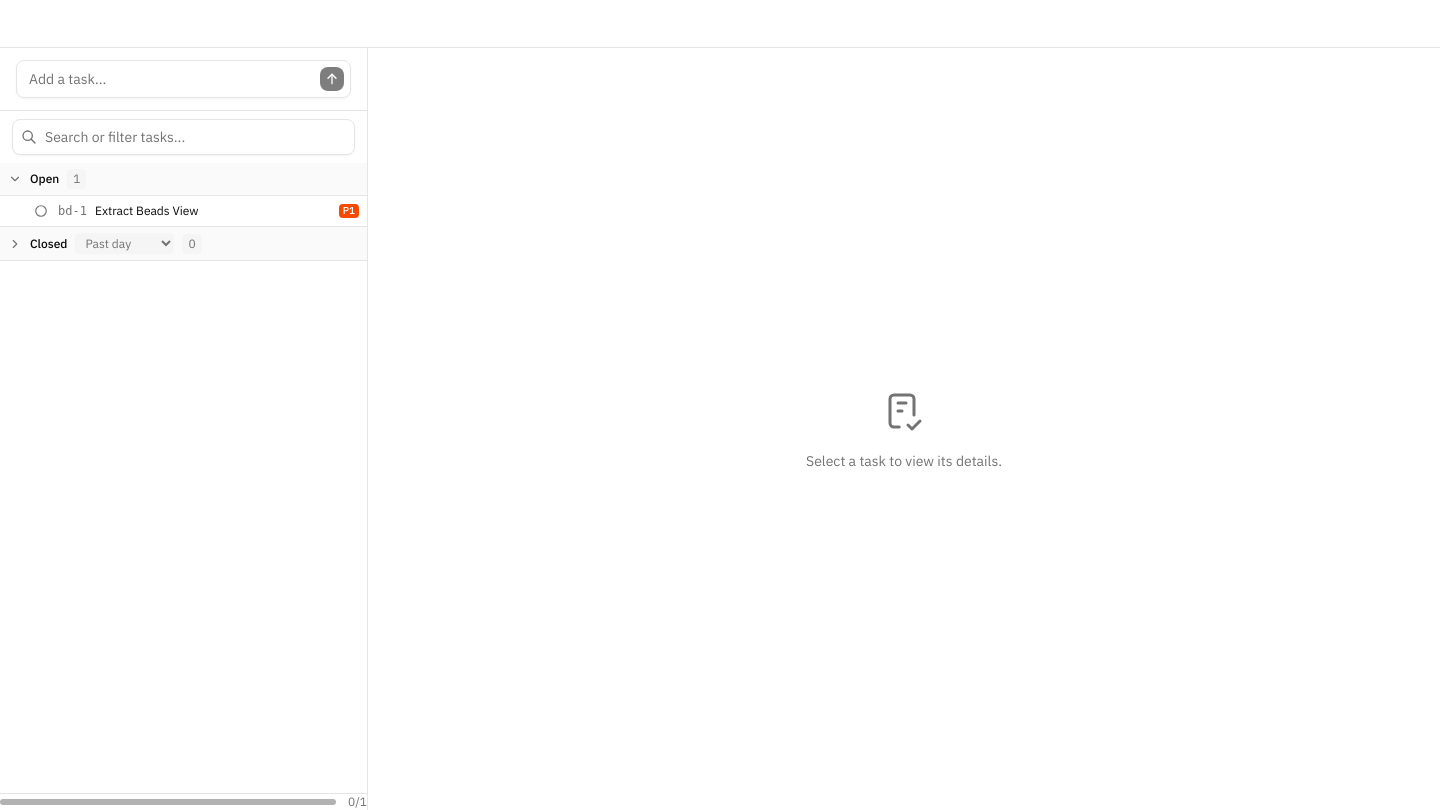
Test case: App › loads tasks and opens editable task details
The image size is (1440, 810).
Check: the text box named "New task title" is shown, box [17,61,320,97]
Check: the progress indicator named "Task completion progress" is shown, box [0,793,367,809]
Click the button "bd-1 Extract Beads View P1". click: (147, 210)
box: [58,203,359,219]
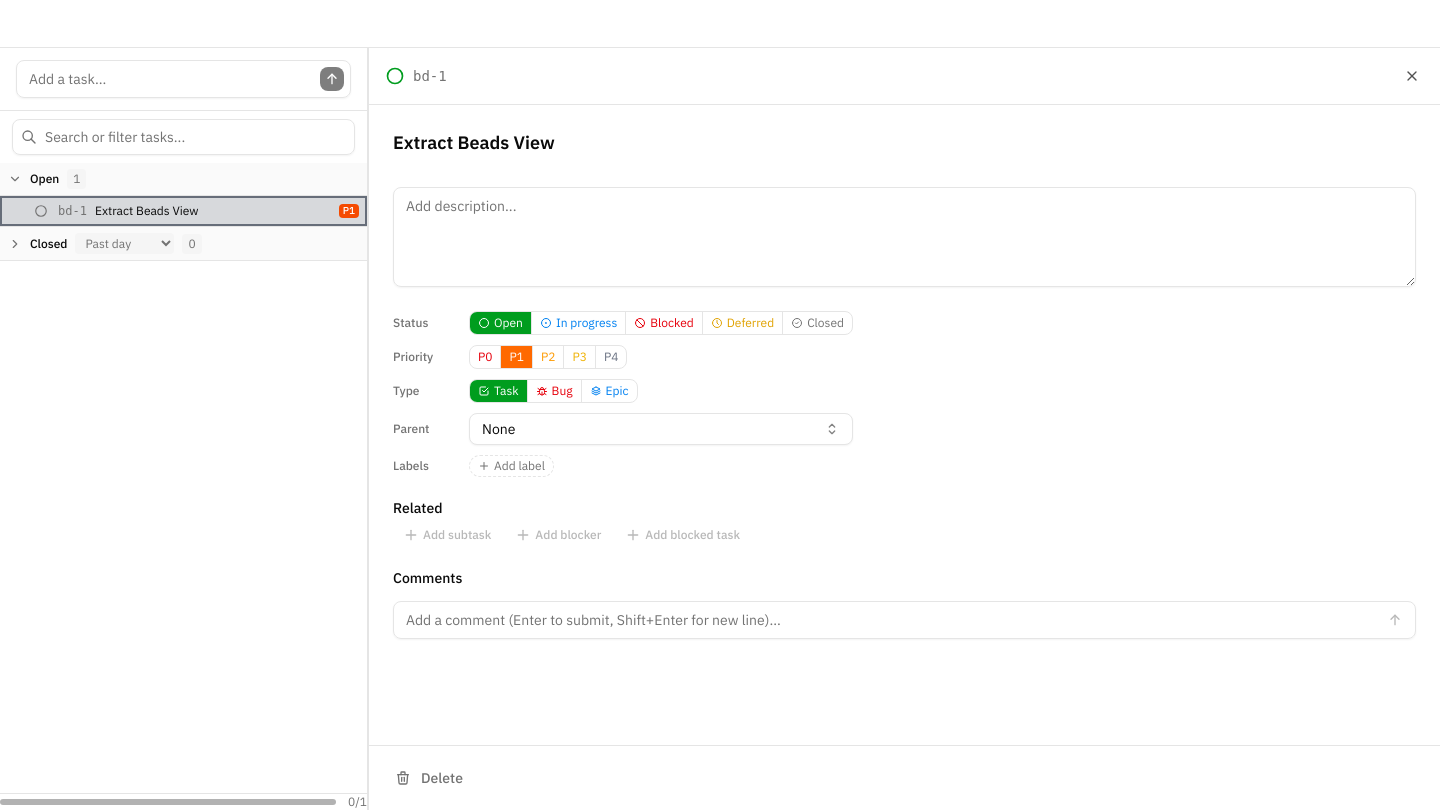
Check: the text box showing "Extract Beads View" is shown, box [393,129,1416,157]
